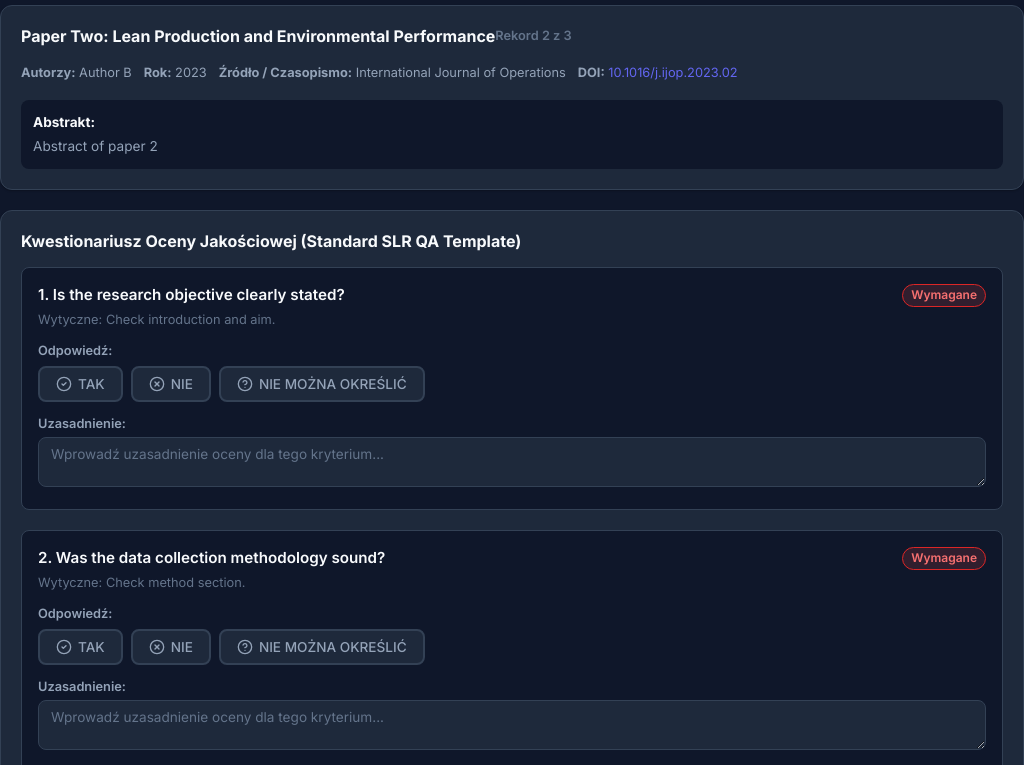
Quality Assessment & Workflow Regression Tests › Issue 2A: Middle UNASSESSED item advances sequentially to next forward item
(page scrolled)
Check: the text "Paper Two: Lean Production and Environmental Performance" is shown, box [21,26,495,47]
Click the button "TAK" below "Check introduction and aim." at [80, 384], box [38,366,123,402]
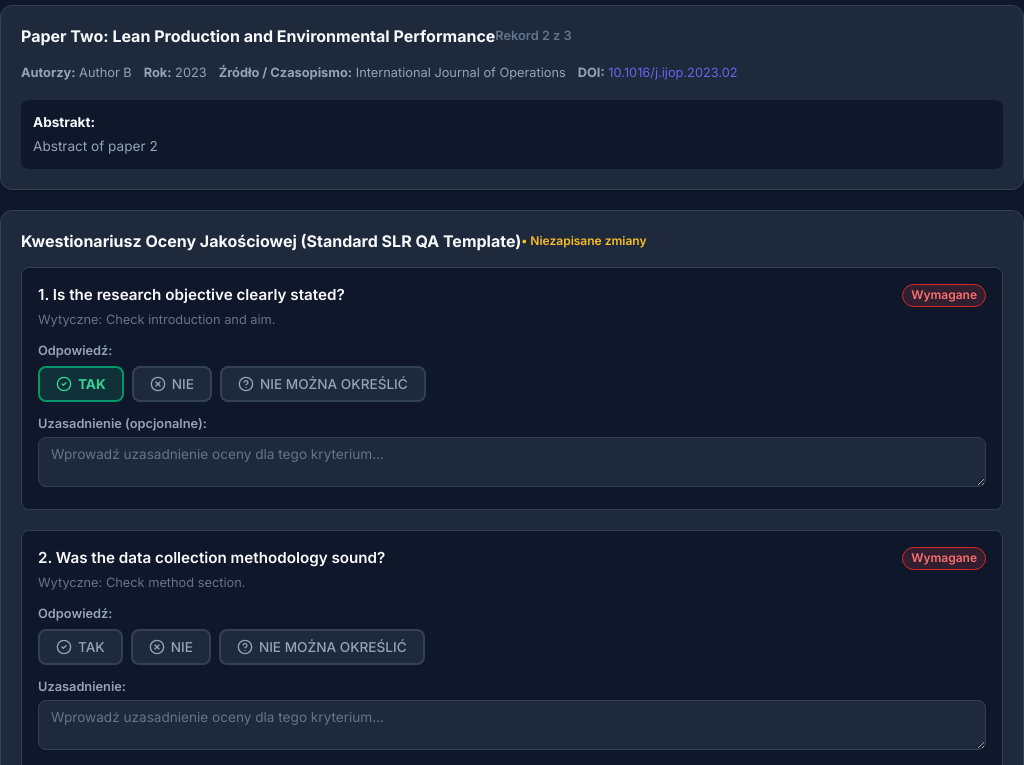
Click the button "TAK" below "Check method section." at [80, 647], box [38,629,123,665]
(page scrolled)
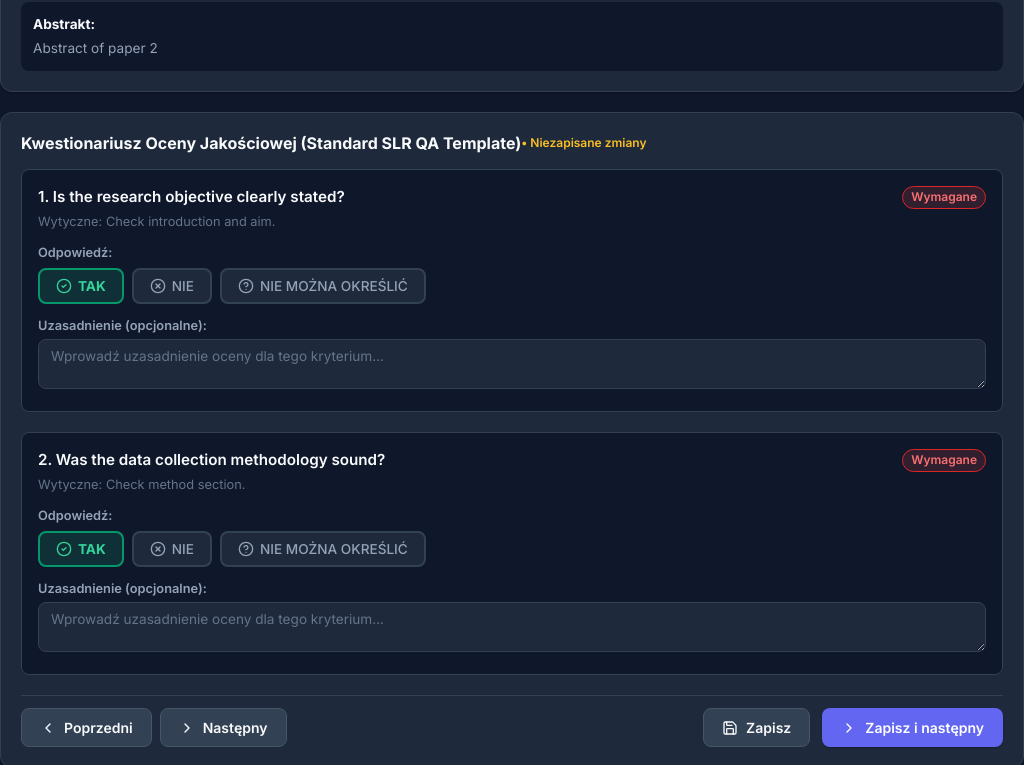
Click the button "Zapisz i następny" at [913, 728], box [822,708,1003,748]
(page scrolled)
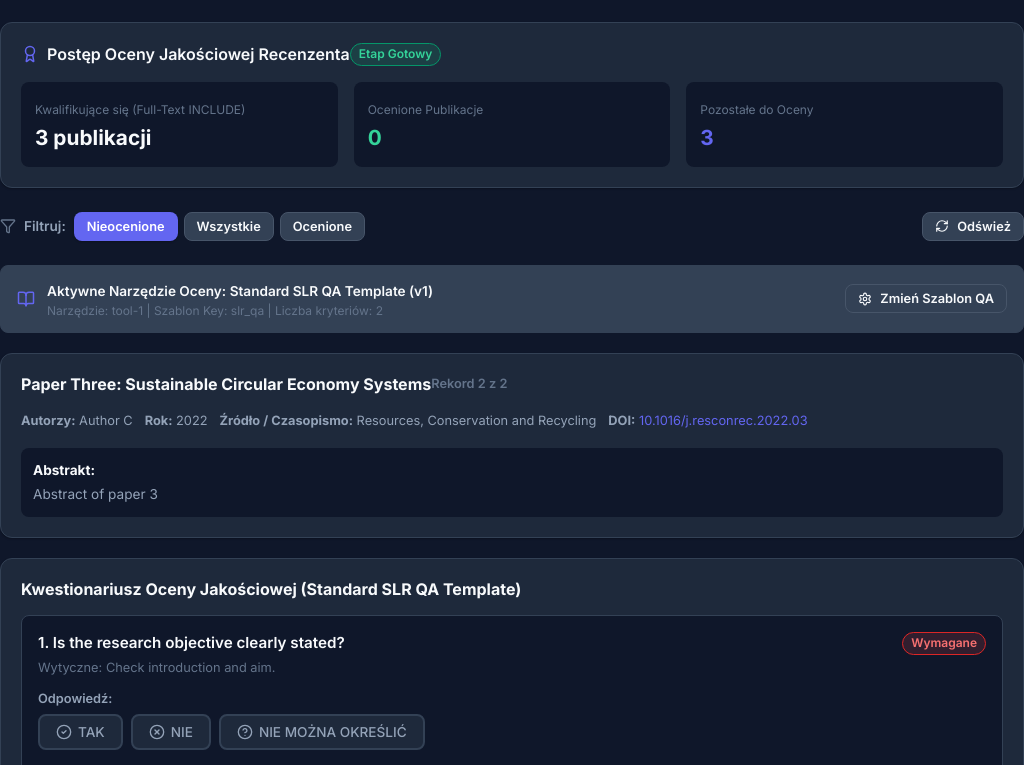
Check: the text "Paper Three: Sustainable Circular Economy Systems" is shown, box [21,374,431,395]
